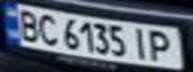1: (75, 19, 93, 53)
3: (90, 20, 112, 56)
5: (106, 22, 130, 58)
6: (57, 17, 81, 51)
B: (12, 7, 42, 43)
C: (33, 11, 60, 46)
I: (127, 25, 154, 61)
P: (145, 28, 178, 63)
